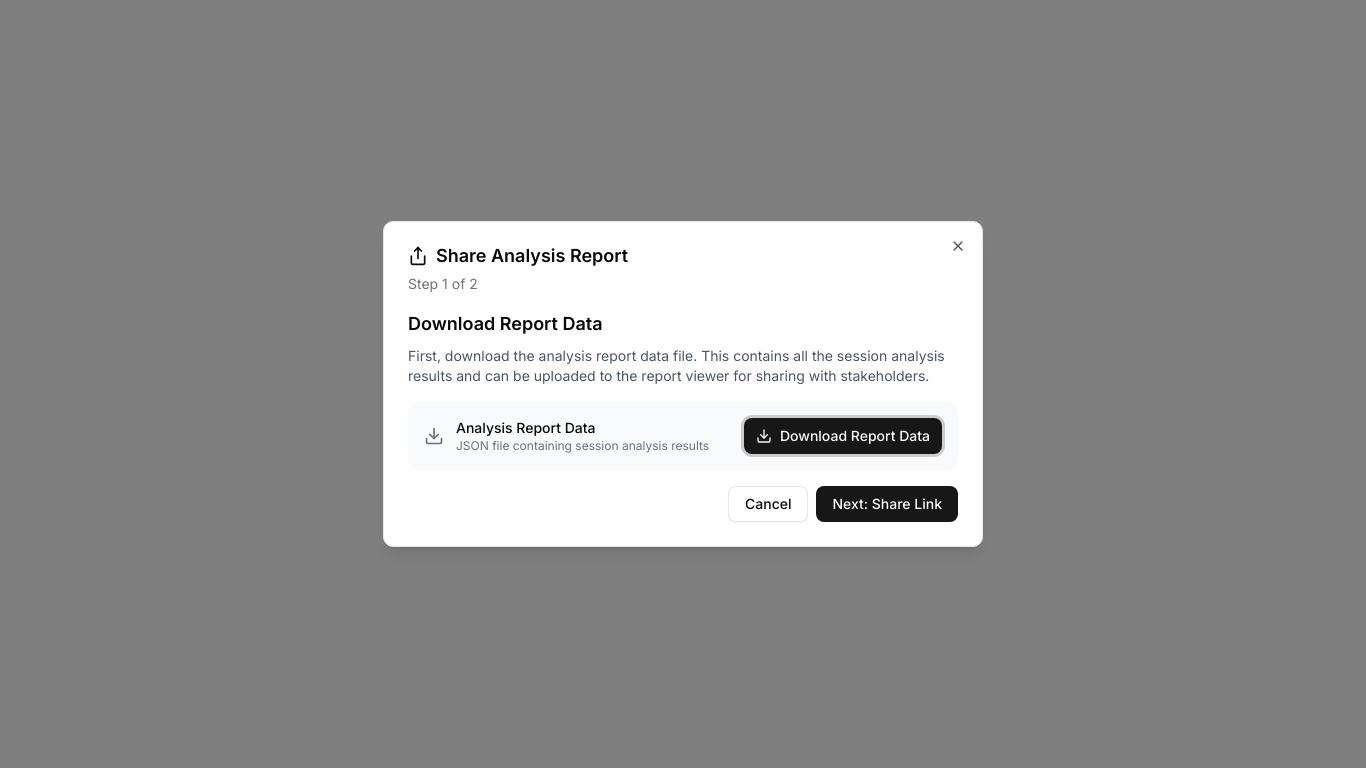
Test: ShareReportModal › Step 2 - Share Link › uses custom report viewer URL from environment
The width and height of the screenshot is (1366, 768).
// Navigate directly to step 2
Click the button "Next: Share Link" at (887, 504), box [816,486,958,522]
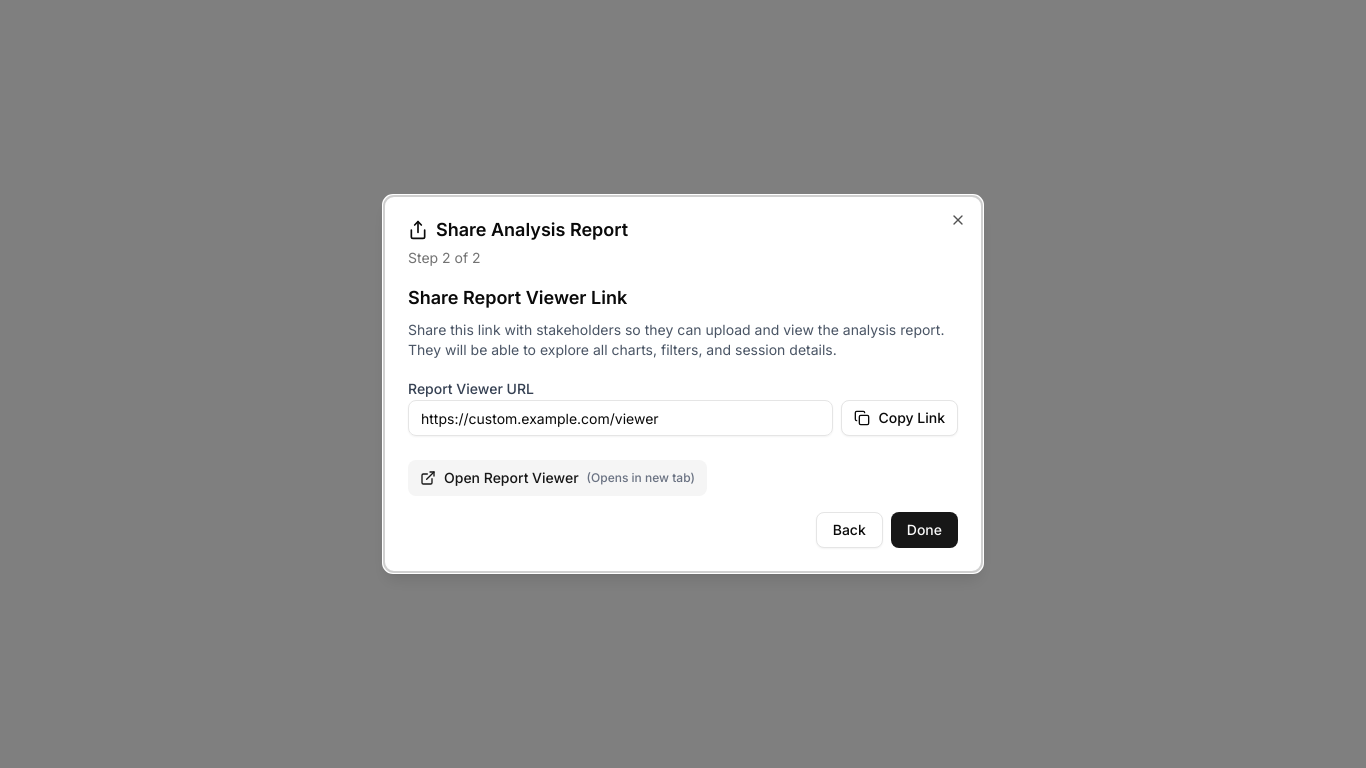
Expected: the field showing "https://custom.example.com/viewer" is shown, [408,400,833,436]
